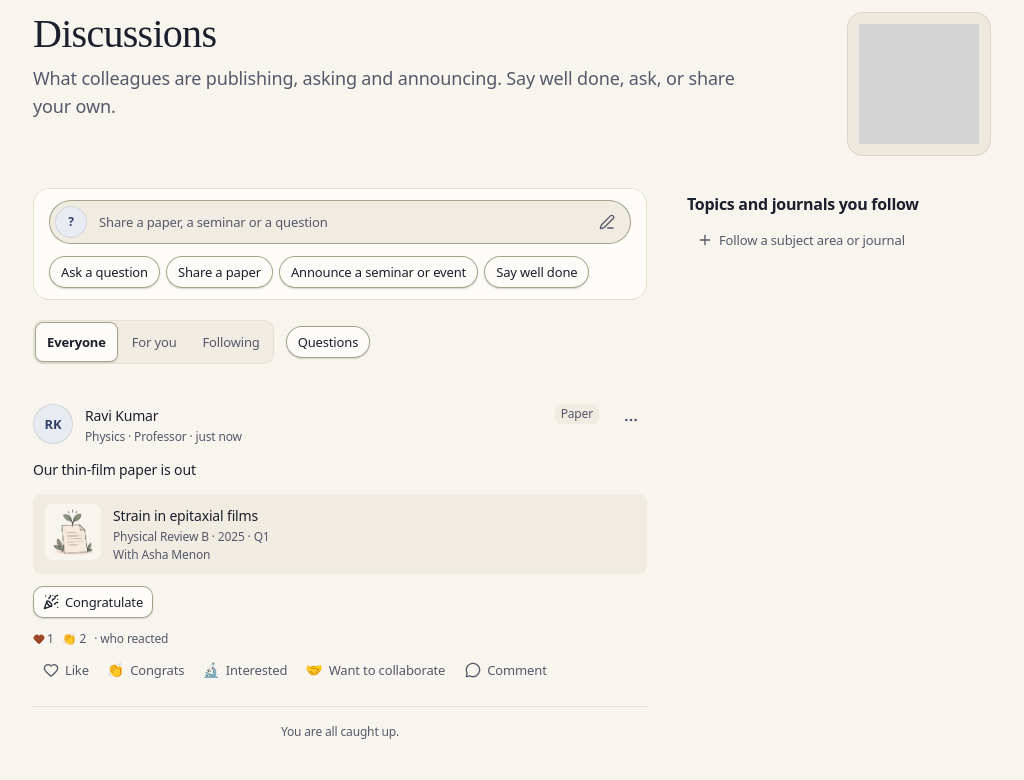
Scenario: reactions › counts a congrats at once, separately from likes
Click the button "👏 Congrats" at x=146, y=670, box [99,654,192,686]
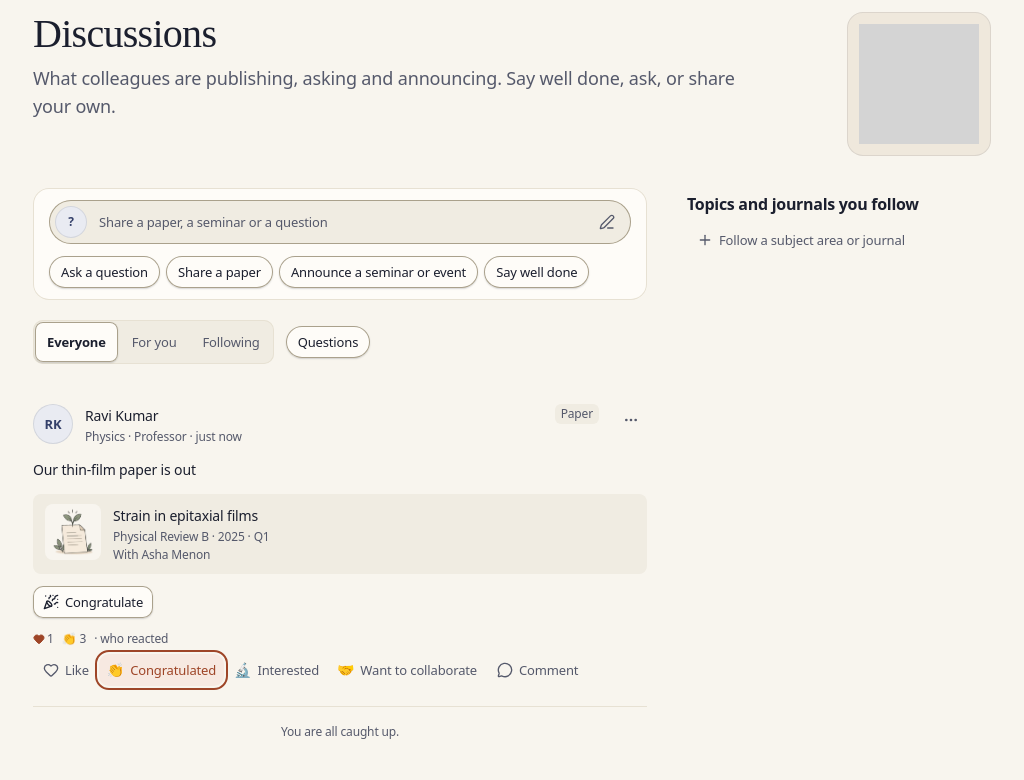
Expected: the button with aria-label "4 reactions" is shown, [33,630,168,648]
